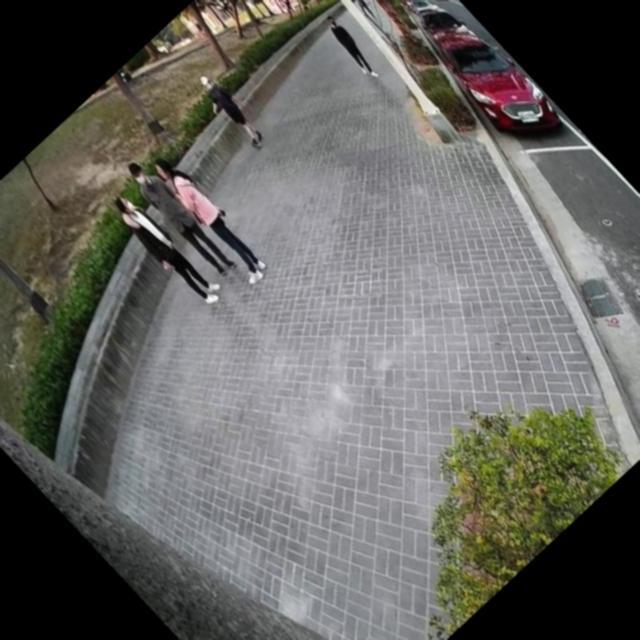person: (140, 144, 277, 288), (98, 180, 230, 318), (115, 149, 244, 284), (188, 65, 272, 153), (314, 6, 388, 84)
